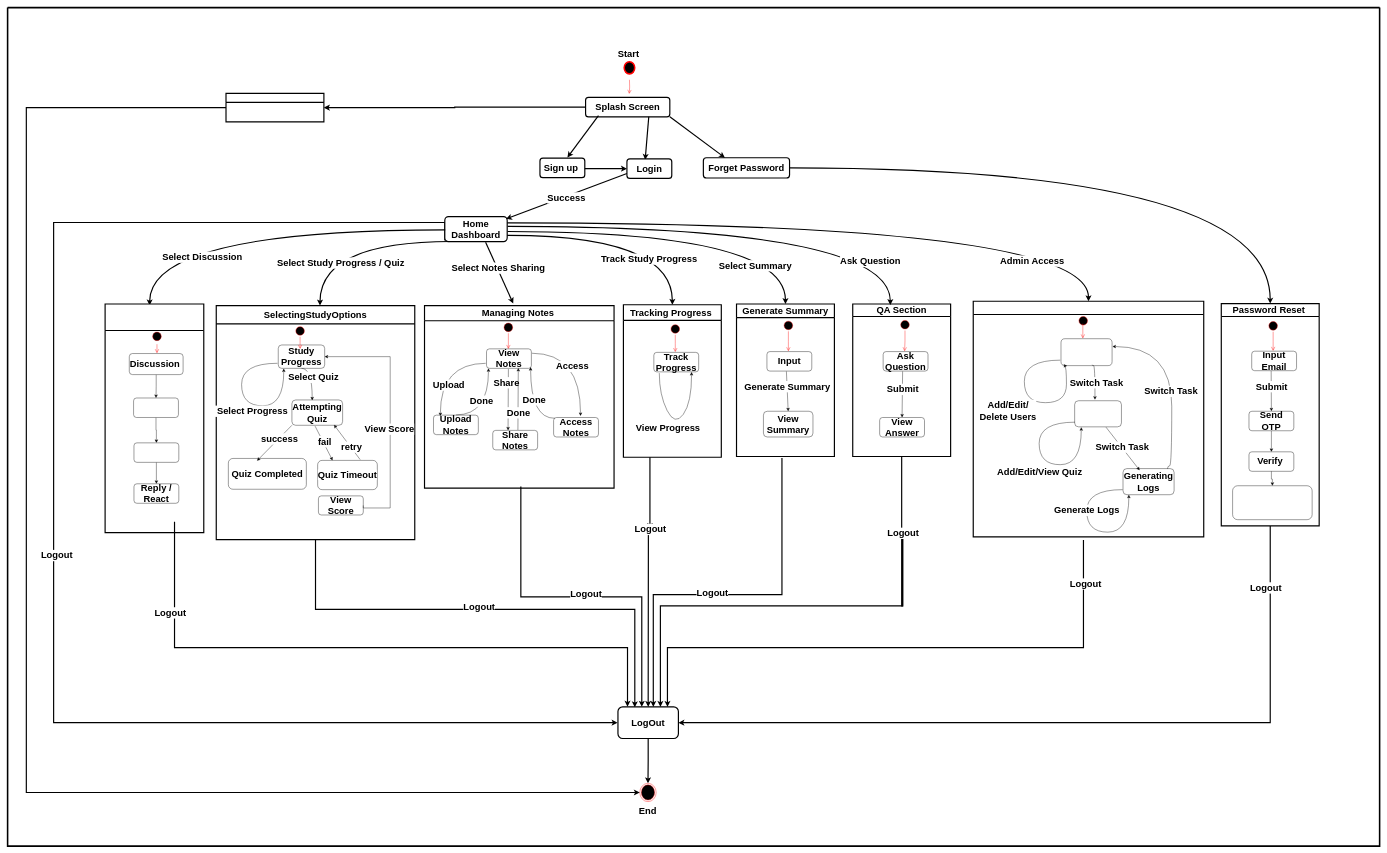
The diagram is 1387 pixels wide and 853 high, and some of its shapes have lost their labels. Here are the shapes that lost their labels. From the top down, the box of each, then its label:
(225, 93, 324, 122): IDLE
(1061, 338, 1112, 366): Managing Users
(104, 303, 204, 533): Participate In Discussion
(133, 398, 178, 417): Interact
(972, 300, 1204, 537): AdminDashboard
(1074, 400, 1121, 427): Managing Quizzes
(134, 442, 179, 462): Post Comment
(1232, 485, 1312, 520): SetNewPassword
